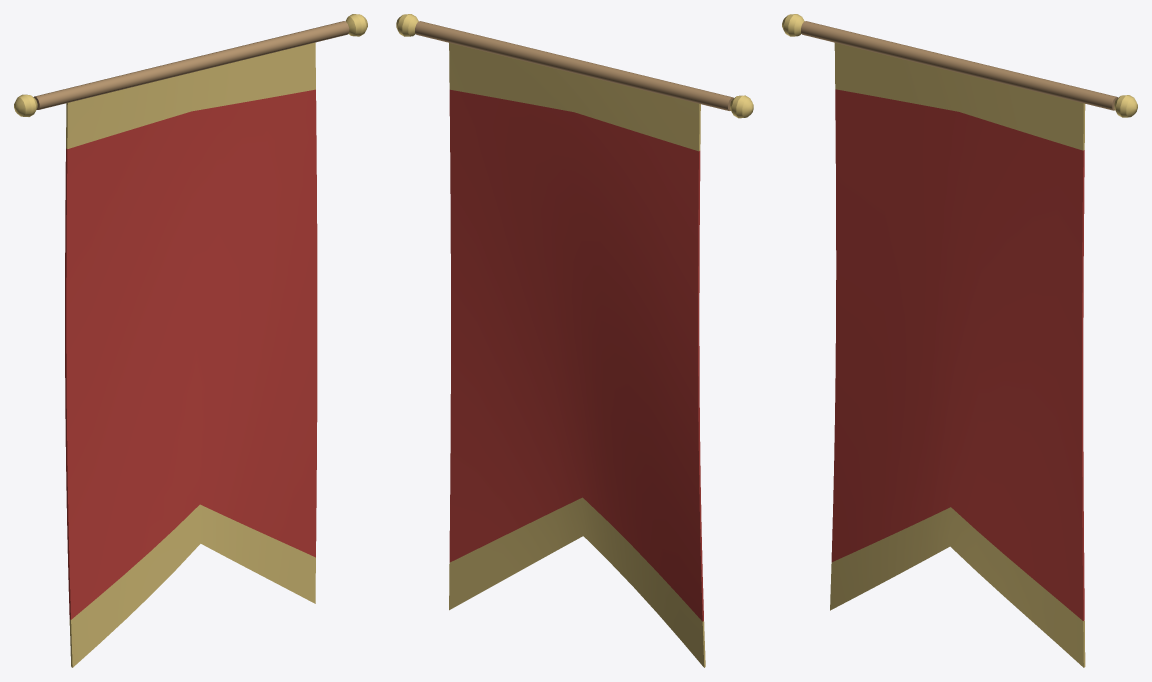
File: banner.glb
3 renders of one model, left to right at view 1: azimuth 30°, elevation 25°; view 2: azimuth 150°, elevation 25°; view 3: azimuth 330°, elevation 25°, orthographic.
Visible parts, largest first — view 1: OUT; view 2: OUT; view 3: OUT.
Part boxes in pixels (x1,y1,x2,y2): OUT: [14, 14, 367, 667]; OUT: [396, 14, 753, 667]; OUT: [782, 14, 1137, 667].
Bounding box in the file's own units: 1.7 × 2.68 × 0.1334.
